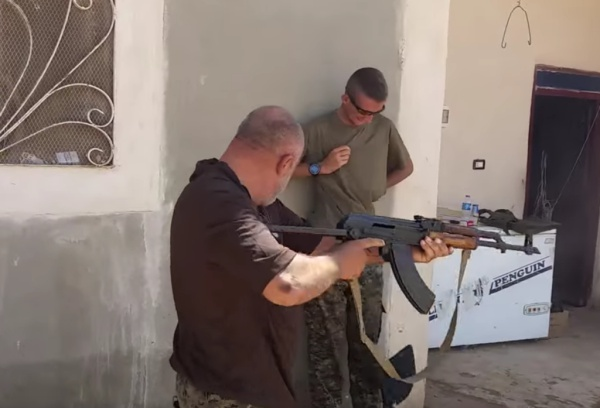ak47: (267, 215, 546, 312)
